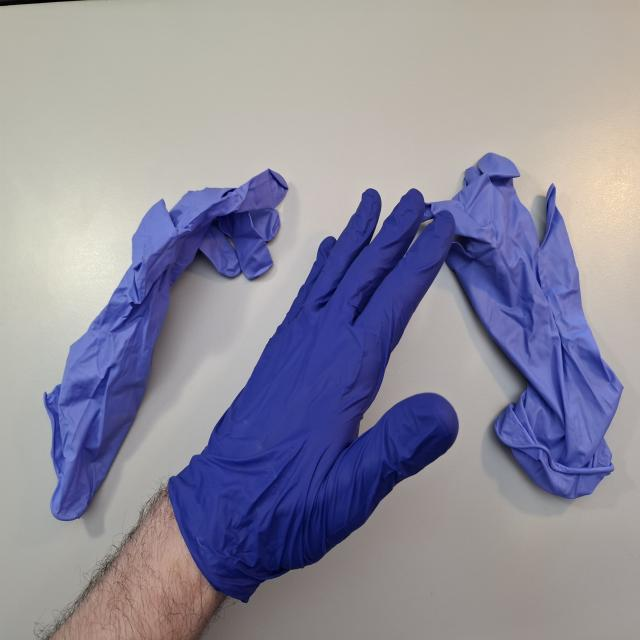glove_on: (164, 185, 461, 606)
